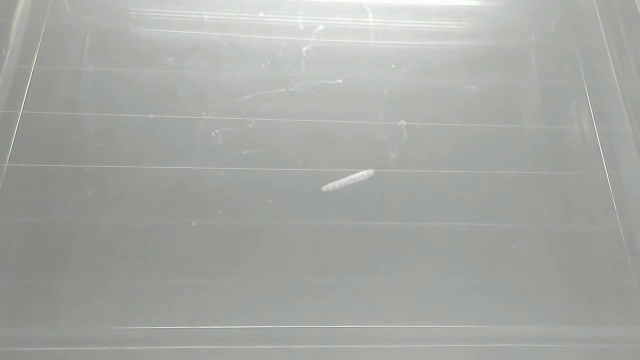alpha: (320, 167, 377, 193)
